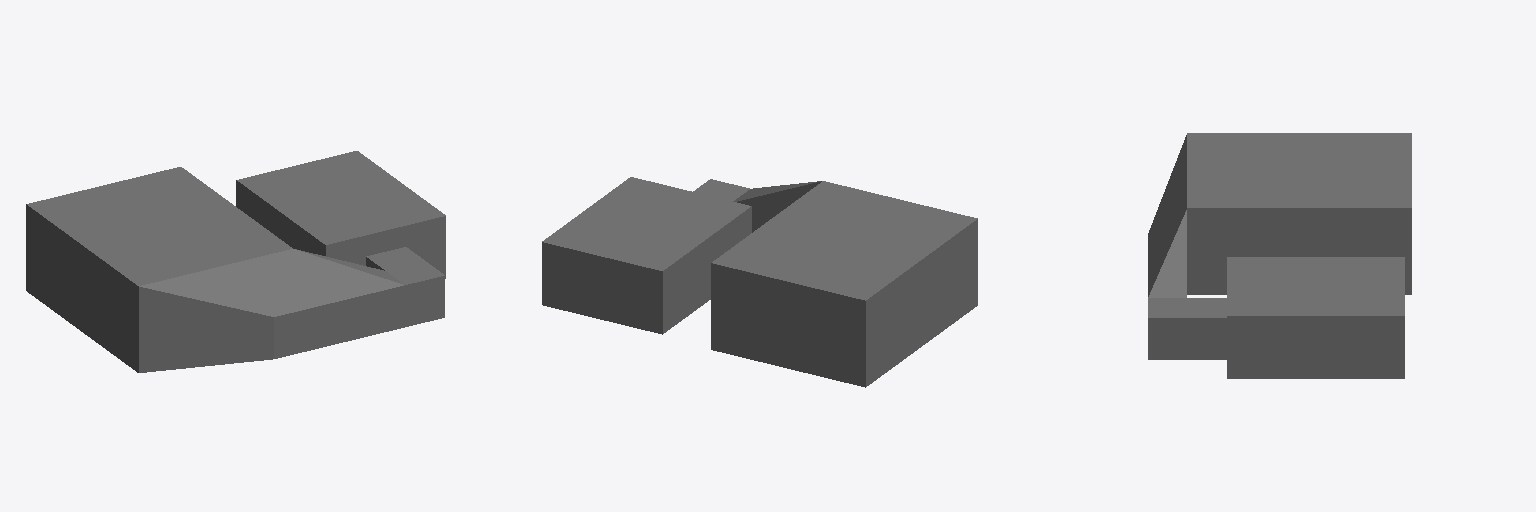
The model's file is room.obj.
The picture shows the model from 3 angles: view 1: azimuth 30°, elevation 25°; view 2: azimuth 150°, elevation 25°; view 3: azimuth 270°, elevation 25°; orthographic projection.
Visible parts, largest first — view 1: pCube1; view 2: pCube1; view 3: pCube1.
Boxes of the visible parts, x1=… form: pCube1: x1=26, y1=151, x2=445, y2=372; pCube1: x1=542, y1=177, x2=977, y2=387; pCube1: x1=1148, y1=133, x2=1411, y2=378.
Bounding box in the file's own units: 271 × 68.71 × 189.